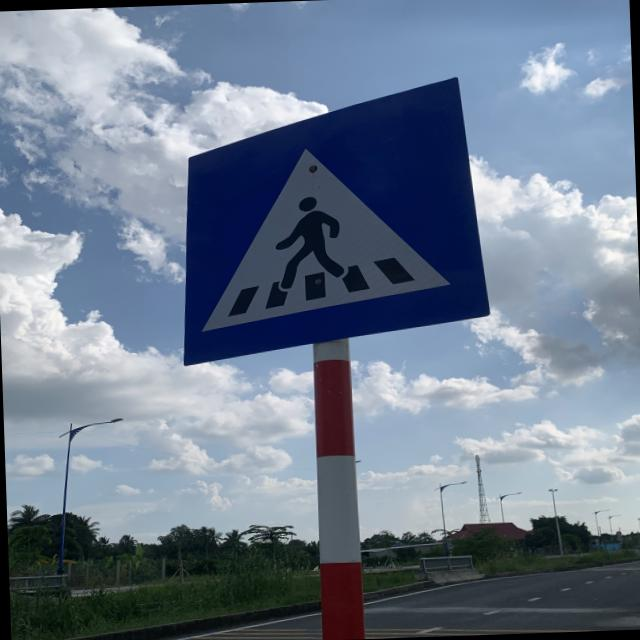Giao_Nhau_Duong_Uu_Tien: (176, 76, 494, 366)
